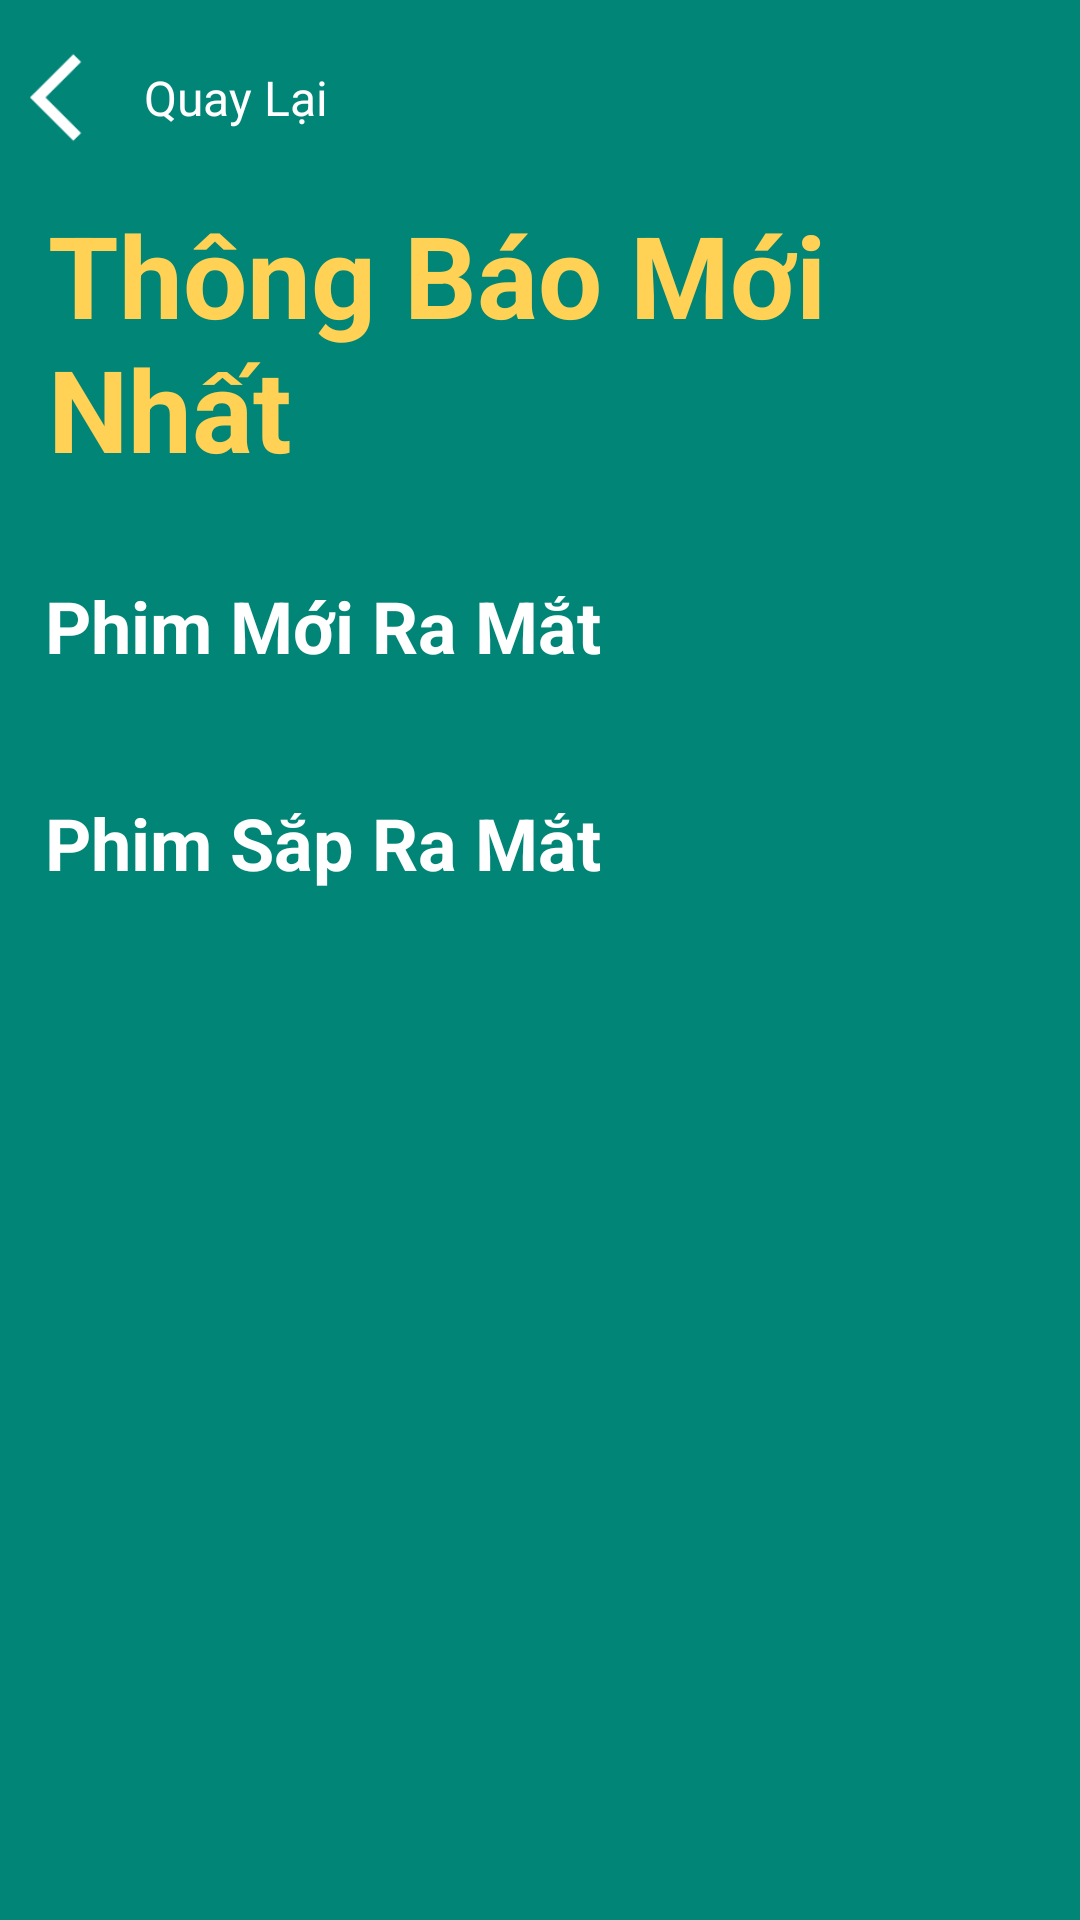

Point at icon controls on the screen. Image size 1080 x 1920, points as [x,y].
back: [56,97]
